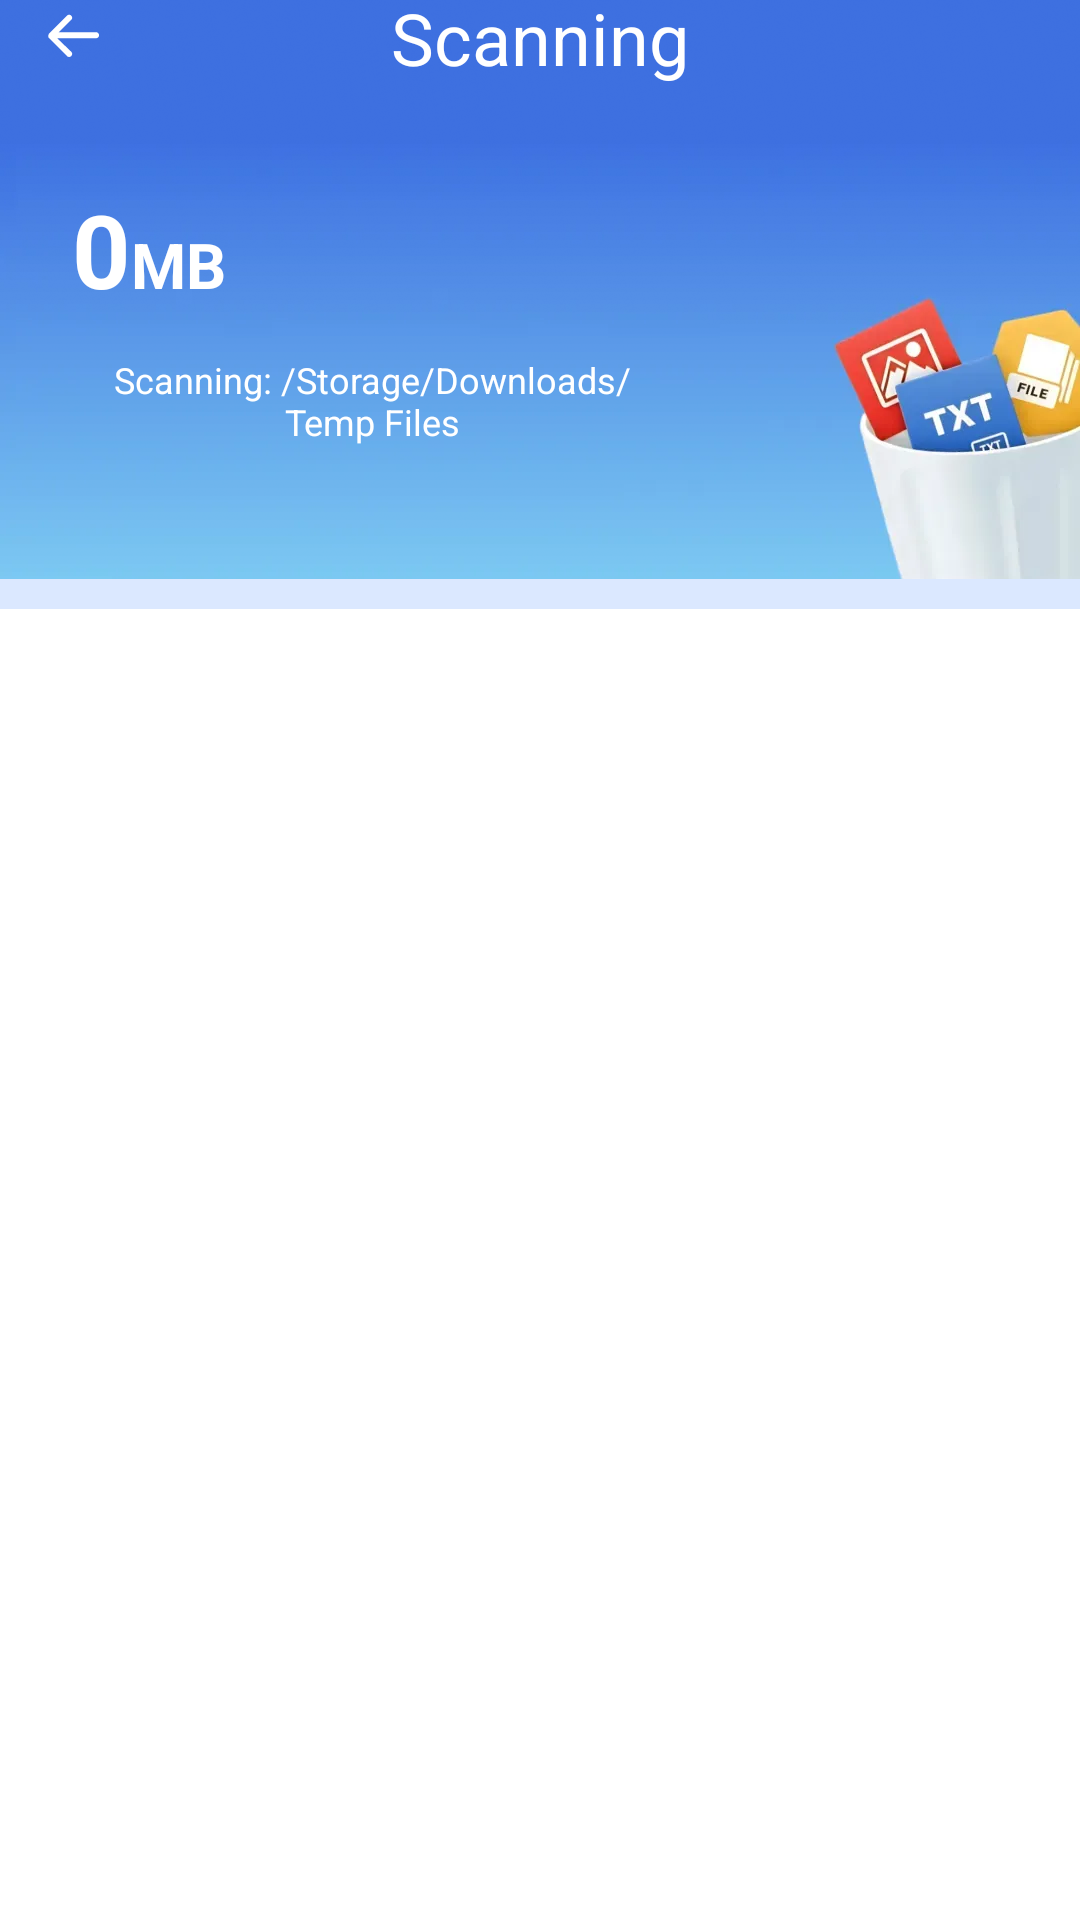

Icon click points for this 1080 × 1920 phone screenshot, format (x,y):
back tui: (73,35)
